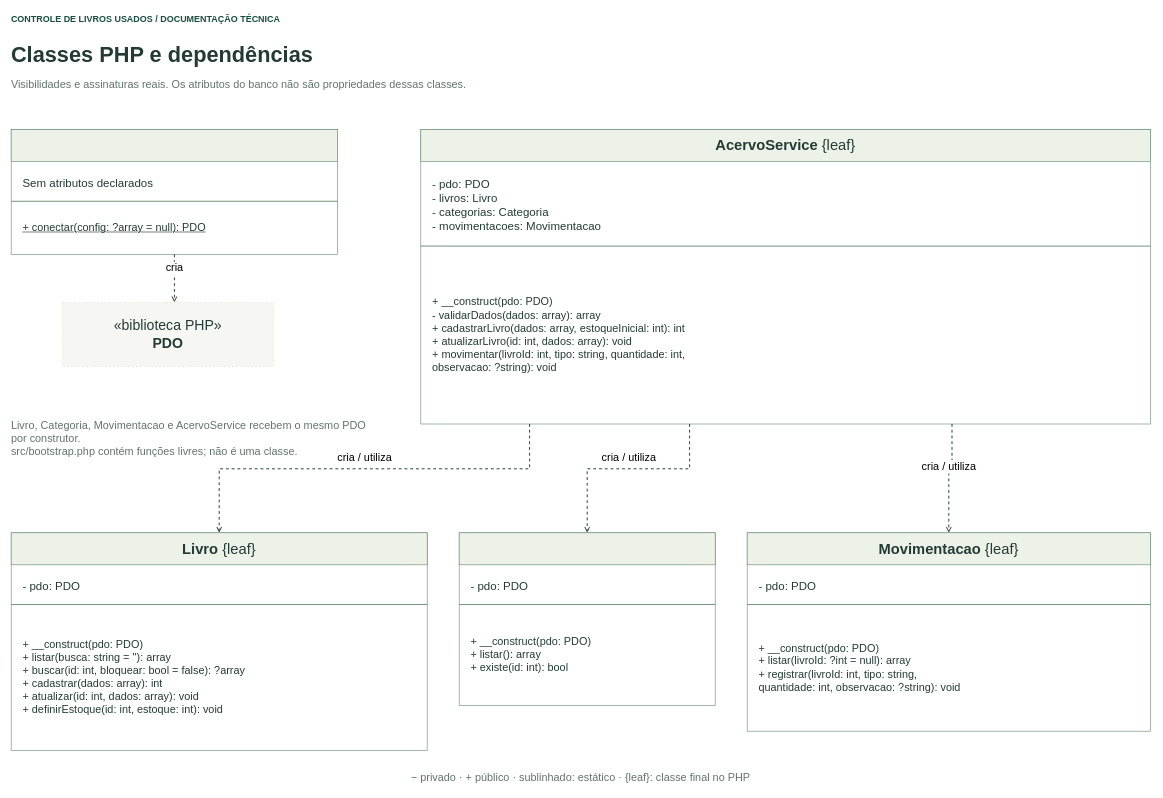
Some shapes in this 1163 by 798 pixel diagram are drawn without their labels. The box of each missing label's shape, as (x1, y1, x2, y2) in pixels:
Categoria {leaf}: (459, 532, 715, 565)
Database {leaf}: (11, 129, 338, 162)
